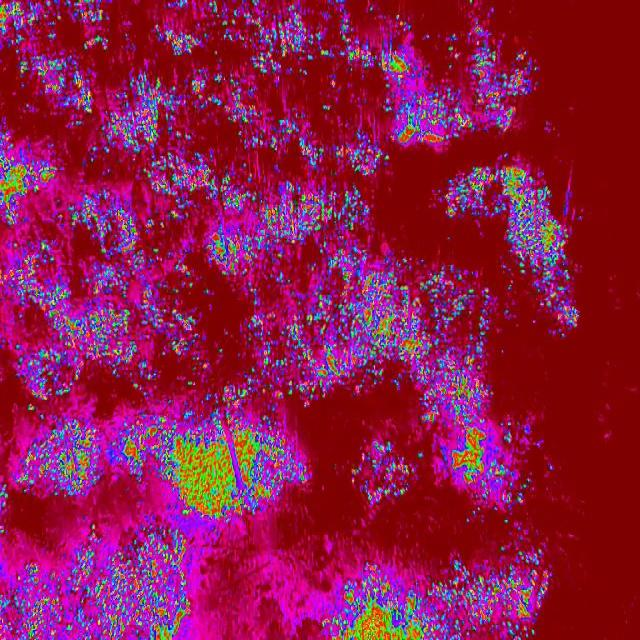fire: (0, 0, 205, 640), (204, 0, 540, 146), (206, 261, 496, 399), (204, 399, 316, 640), (205, 145, 393, 260), (318, 555, 561, 640), (424, 399, 560, 517), (436, 154, 575, 222), (505, 222, 580, 336), (344, 440, 421, 510)
